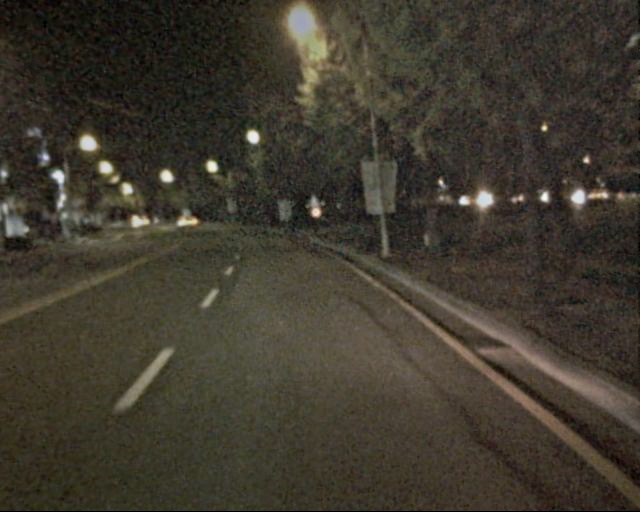person: (416, 205, 446, 263)
